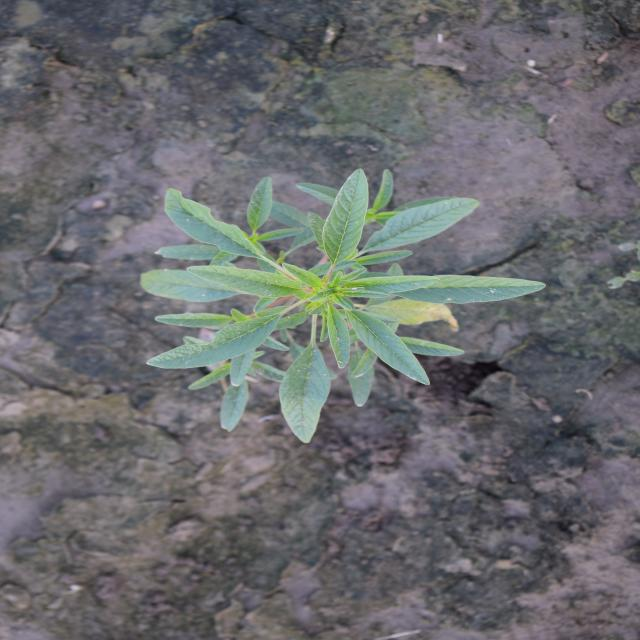Waterhemp: (134, 167, 548, 447)
